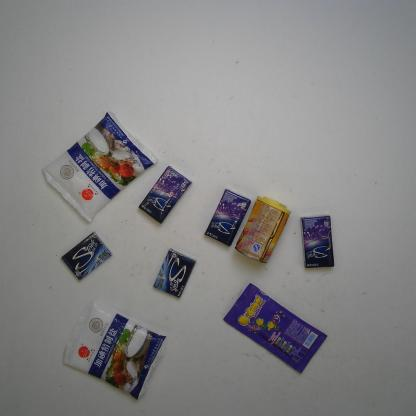Candy: (223, 283, 328, 374)
Canned Food: (235, 195, 291, 264)
Gum: (139, 166, 193, 224), (204, 189, 252, 247), (62, 232, 112, 281), (153, 249, 196, 298), (300, 214, 335, 269)
Seasoner: (42, 111, 158, 223), (63, 298, 169, 400)
